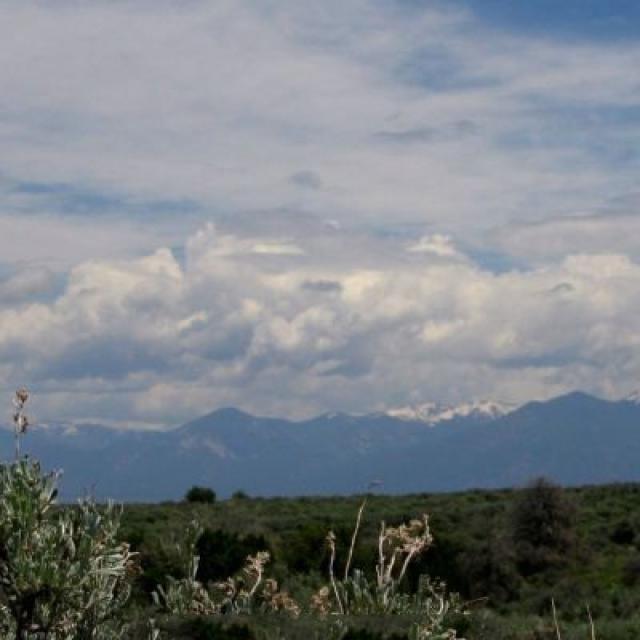Cs: (1, 27, 640, 394)
